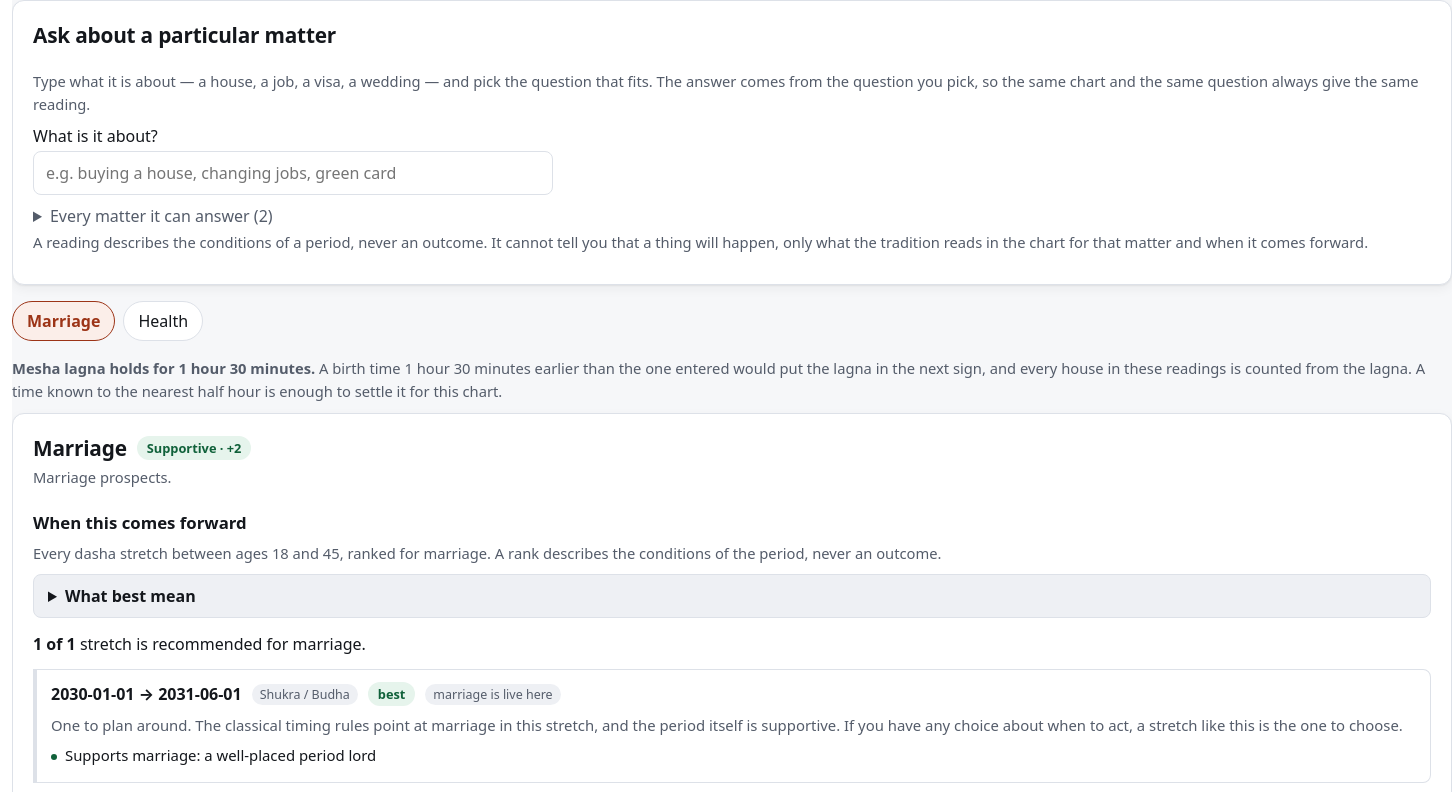
Scenario: asking a question from the readings page › answers a question about the topic already selected
In the field labelled "What is it about?": (293, 173) [33, 151, 553, 195], type "marriage"
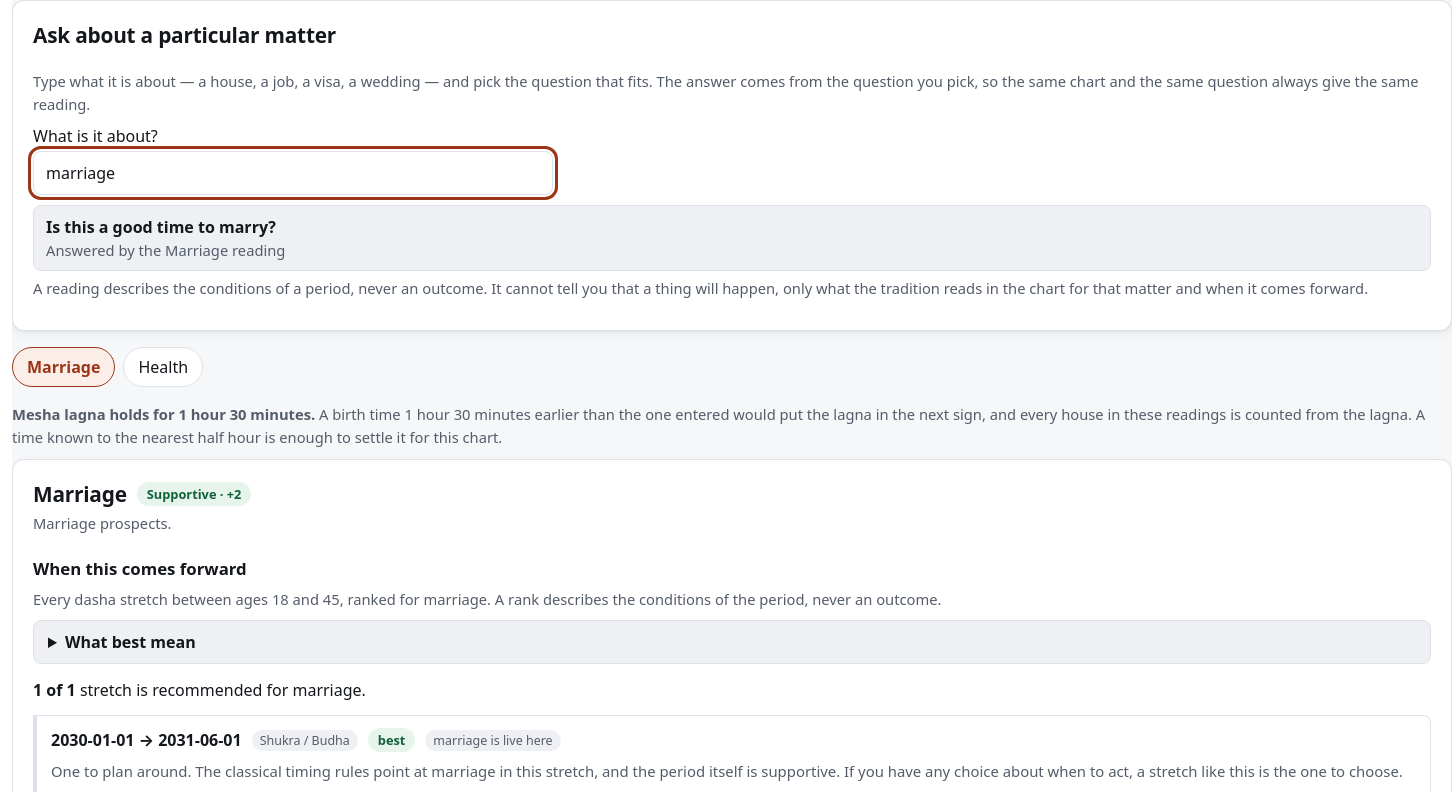
Click the button "Is this a good time to marry?": (161, 227) [33, 205, 1431, 271]
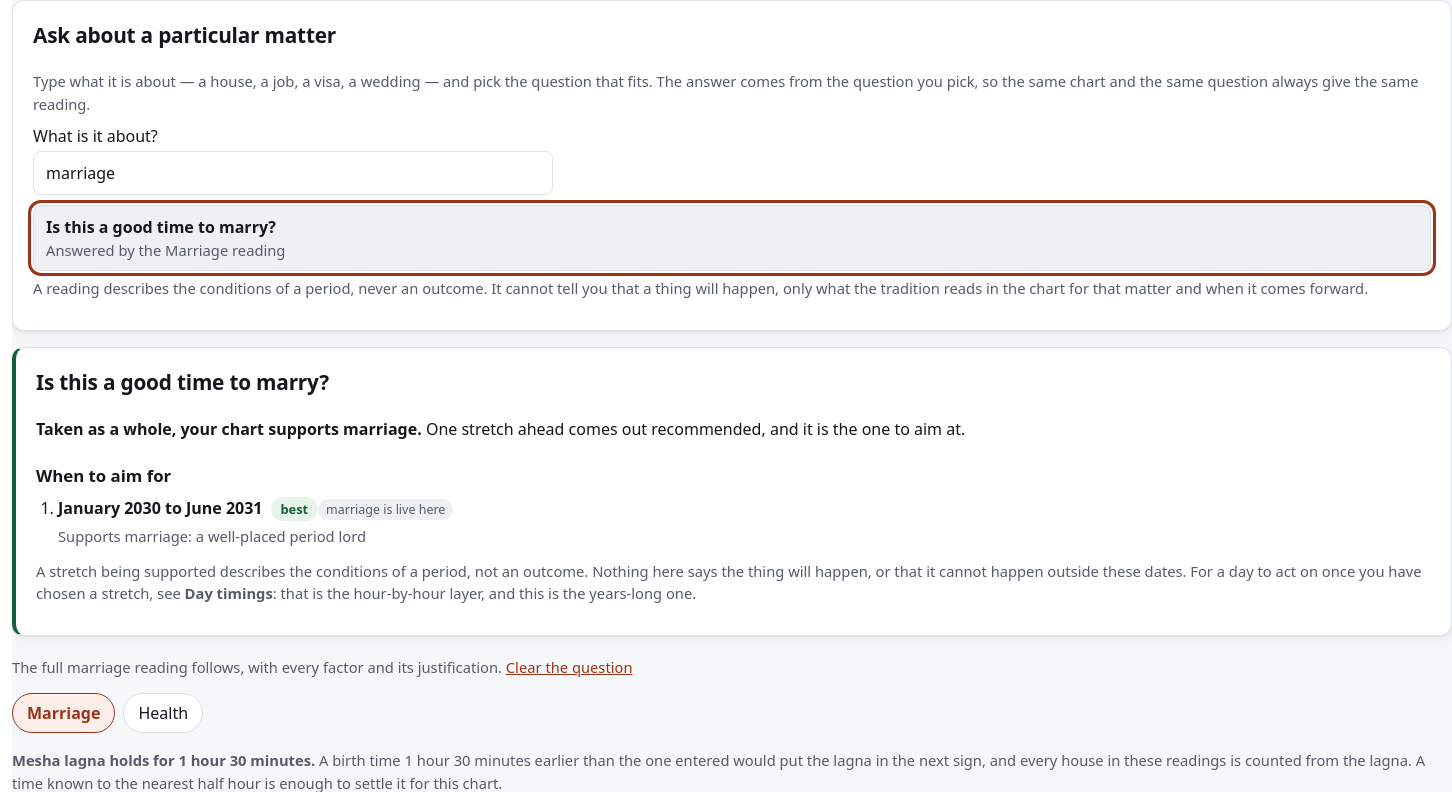
Expected: the heading "Is this a good time to marry?" is shown, [36, 368, 329, 396]
Expected: the text "Taken as a whole, your chart supports marriage." is shown, [36, 418, 422, 440]
Expected: the text "January 2030 to June 2031" is shown, [58, 497, 262, 519]
